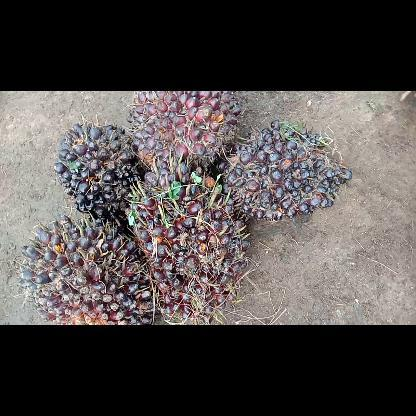TBS mentah: (124, 156, 252, 324), (16, 212, 160, 324), (212, 116, 354, 222), (124, 91, 242, 177), (51, 121, 147, 226)
